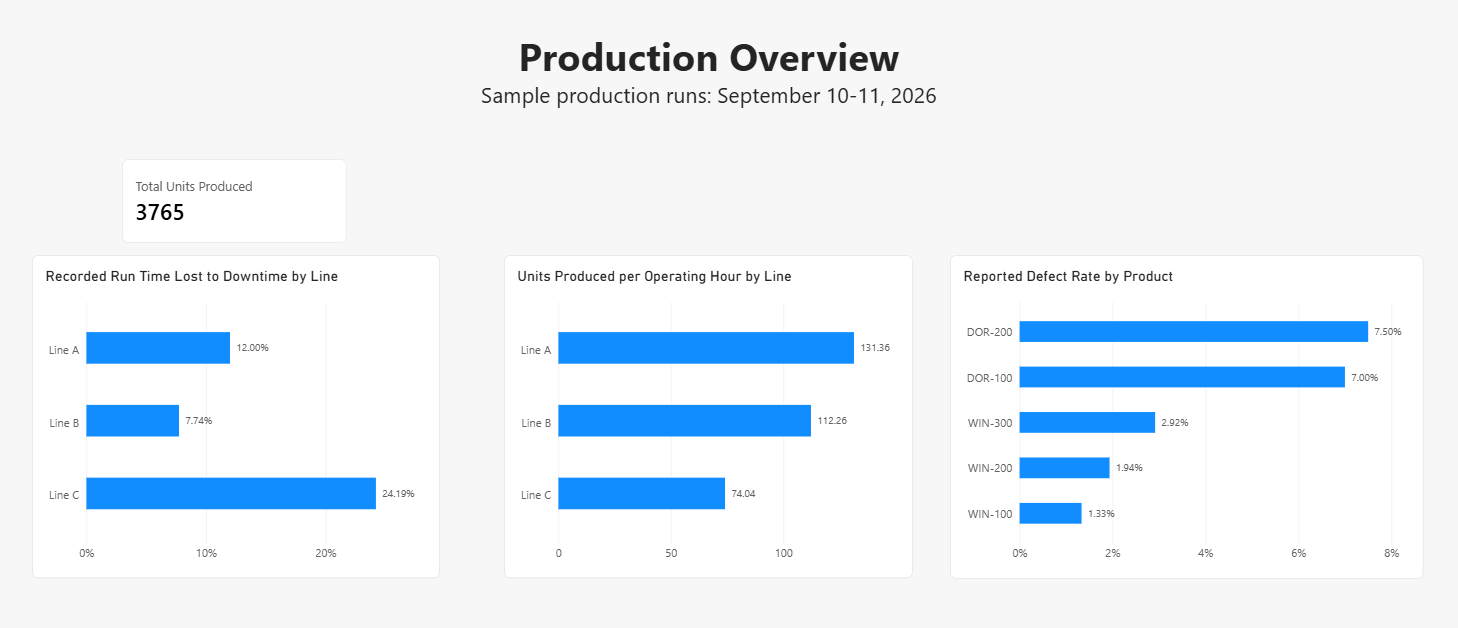

What the dashboard file says about the page in this screenshot:
{"tool":"powerbi","page":{"name":"Production Overview","canvas":[1920,1080],"ordinal":1},"visuals":[{"type":"clusteredBarChart","title":"Recorded Run Time Lost to Downtime by Line","fields":{"Category":["public production_lines.line_name"],"Y":["public production_runs.Downtime %"]},"box":[113.3,336.7,509.9,404.2],"z":0},{"type":"cardVisual","fields":{"Data":["public production_runs.Total Units Produced"]},"box":[226.7,216.7,281.7,105],"z":1000},{"type":"clusteredBarChart","title":"Units Produced per Operating Hour by Line","fields":{"Category":["public production_lines.line_name"],"Y":["public production_runs.Units per Operating Hour"]},"box":[703.3,336.7,511.4,404.2],"z":2000},{"type":"textbox","box":[575,53.3,770,133.8],"z":3000},{"type":"clusteredBarChart","title":"Reported Defect Rate by Product","fields":{"Category":["public products.sku"],"Y":["public production_runs.Defect Rate %"]},"box":[1261.7,336.7,591.7,405],"z":4000}]}

Visuals, with their boxes on the page's 1920x1080 design canvas (x1, y1, x2, y2). These are canvas units, not pixel positions in the 1458x628 screenshot, which may show the page scaled, cropped or inside an application window:
"Recorded Run Time Lost to Downtime by Line" clusteredBarChart: {"x1": 113, "y1": 337, "x2": 623, "y2": 741}
cardVisual - public production_runs.Total Units Produced: {"x1": 227, "y1": 217, "x2": 508, "y2": 322}
"Units Produced per Operating Hour by Line" clusteredBarChart: {"x1": 703, "y1": 337, "x2": 1215, "y2": 741}
textbox: {"x1": 575, "y1": 53, "x2": 1345, "y2": 187}
"Reported Defect Rate by Product" clusteredBarChart: {"x1": 1262, "y1": 337, "x2": 1853, "y2": 742}
